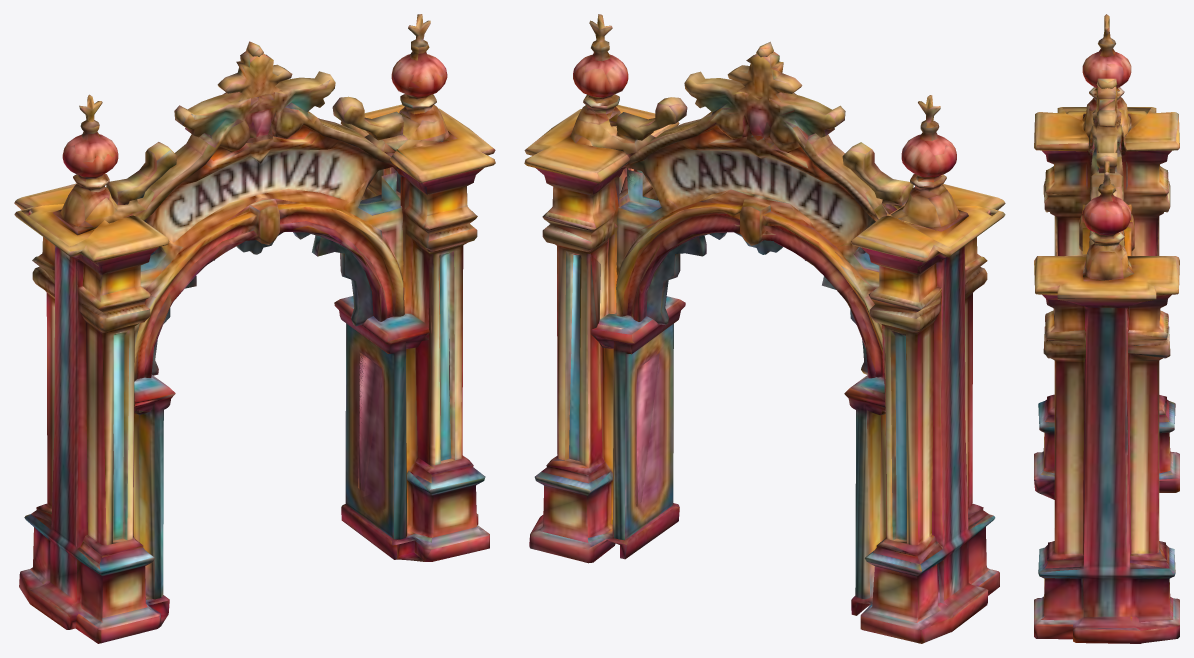
3 renders of one model, left to right at view 1: azimuth 30°, elevation 25°; view 2: azimuth 150°, elevation 25°; view 3: azimuth 270°, elevation 25°, orthographic. The views are drawn at different scales.
Bounding box in the file's own units: 1.62 × 1.89 × 0.5284.
Materials: 1 (1 with a texture image).
